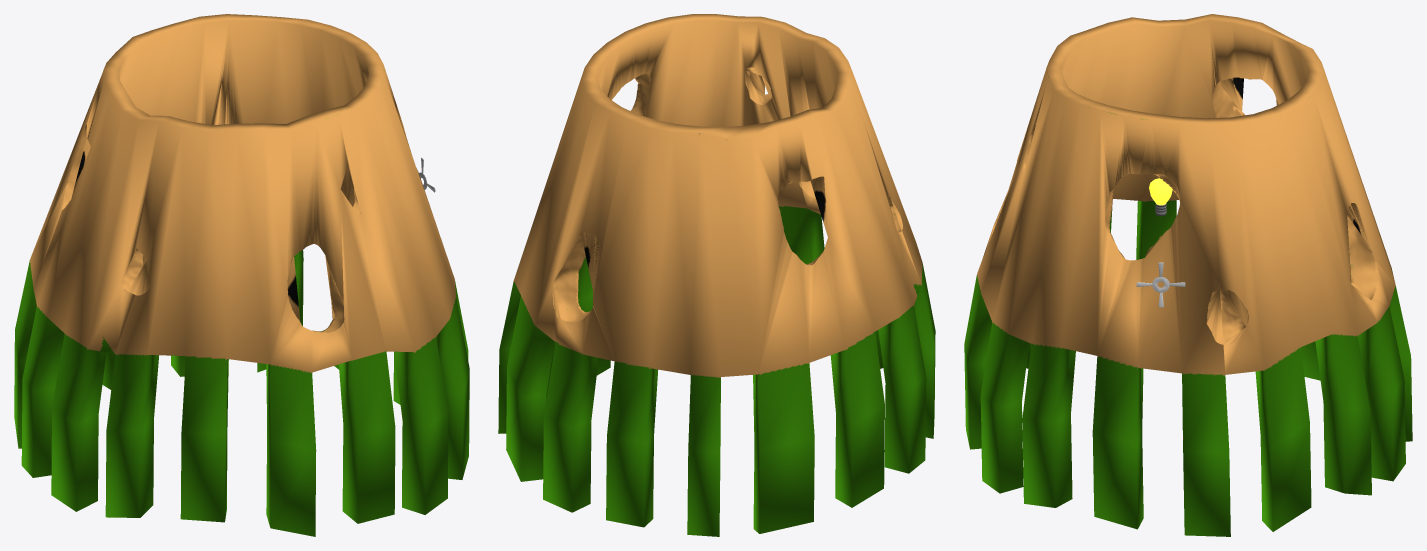
File: imortal lamp.fbx
3 views of the same model, side by side, from view 1: azimuth 30°, elevation 25°; view 2: azimuth 150°, elevation 25°; view 3: azimuth 270°, elevation 25° (orthographic). The views are drawn at different scales.
Parts seen in each view (by area): view 1: Cylinder; view 2: Cylinder; view 3: Cylinder, Cylinder.001.
Boxes of the visible parts, x1,y1,x2,y2 form: Cylinder: [14, 14, 469, 536]; Cylinder: [498, 14, 935, 536]; Cylinder: [964, 14, 1412, 536]; Cylinder.001: [1149, 178, 1172, 215].
Size of the model in its own units: 311 by 296 by 316.
